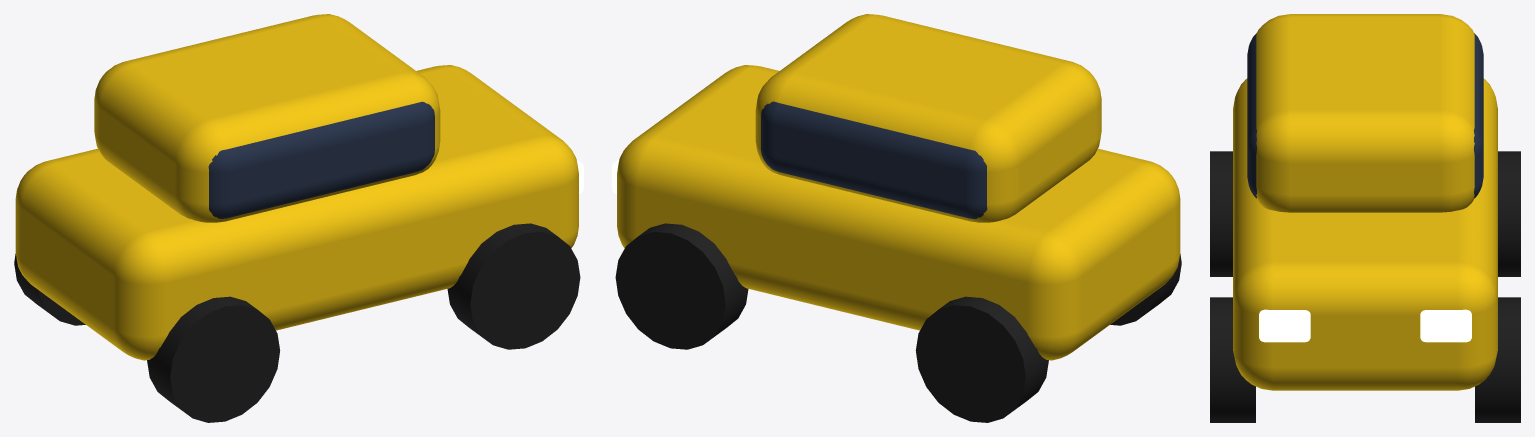
The model's file is voiture_doree.glb.
The picture shows the model from 3 angles, left to right: view 1: azimuth 30°, elevation 25°; view 2: azimuth 150°, elevation 25°; view 3: azimuth 270°, elevation 25°; orthographic projection.
Bounding box in the file's own units: 4.65 × 2.55 × 2.7.
